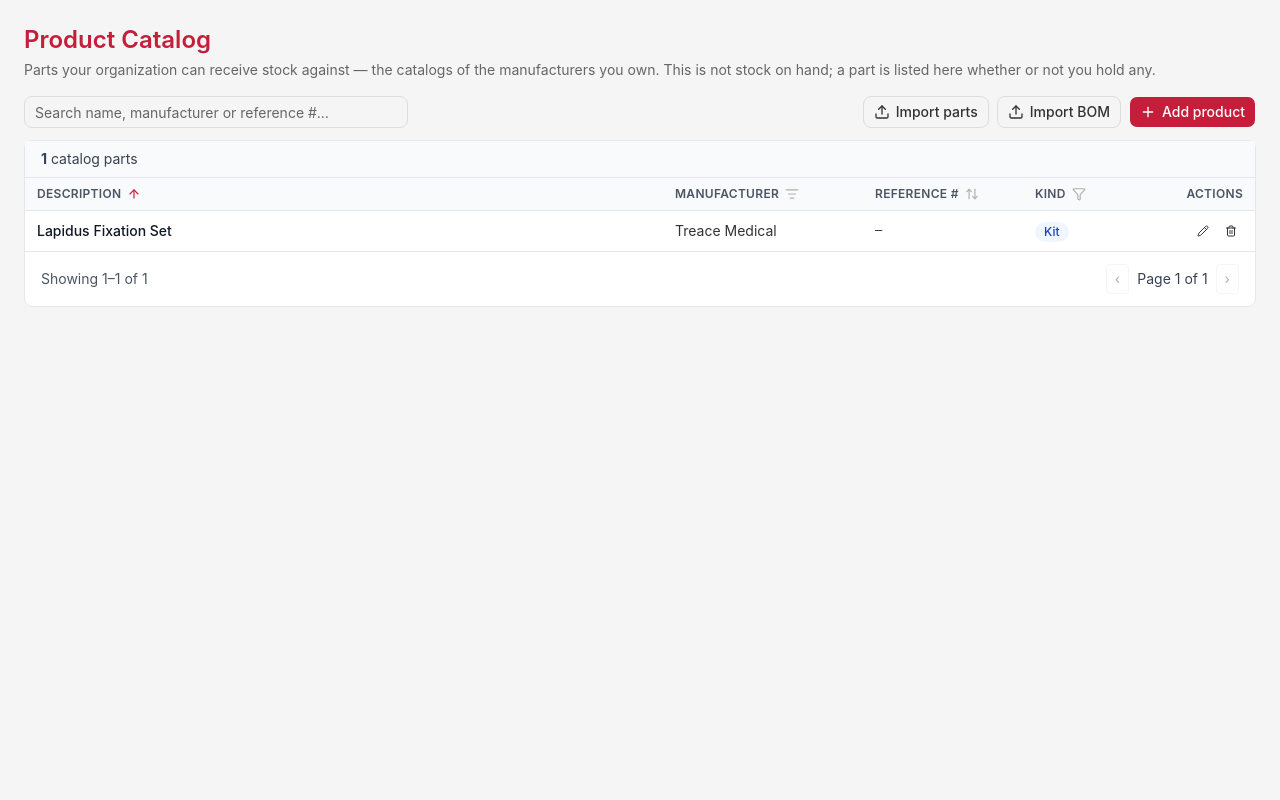
Test: importing a catalog › opens the parts dialog, which says manufacturers must already exist
This screenshot has width=1280, height=800.
Expected: the link "Lapidus Fixation Set" is shown, [37, 222, 172, 239]
Click the button "Import parts": (926, 112) [863, 96, 989, 128]
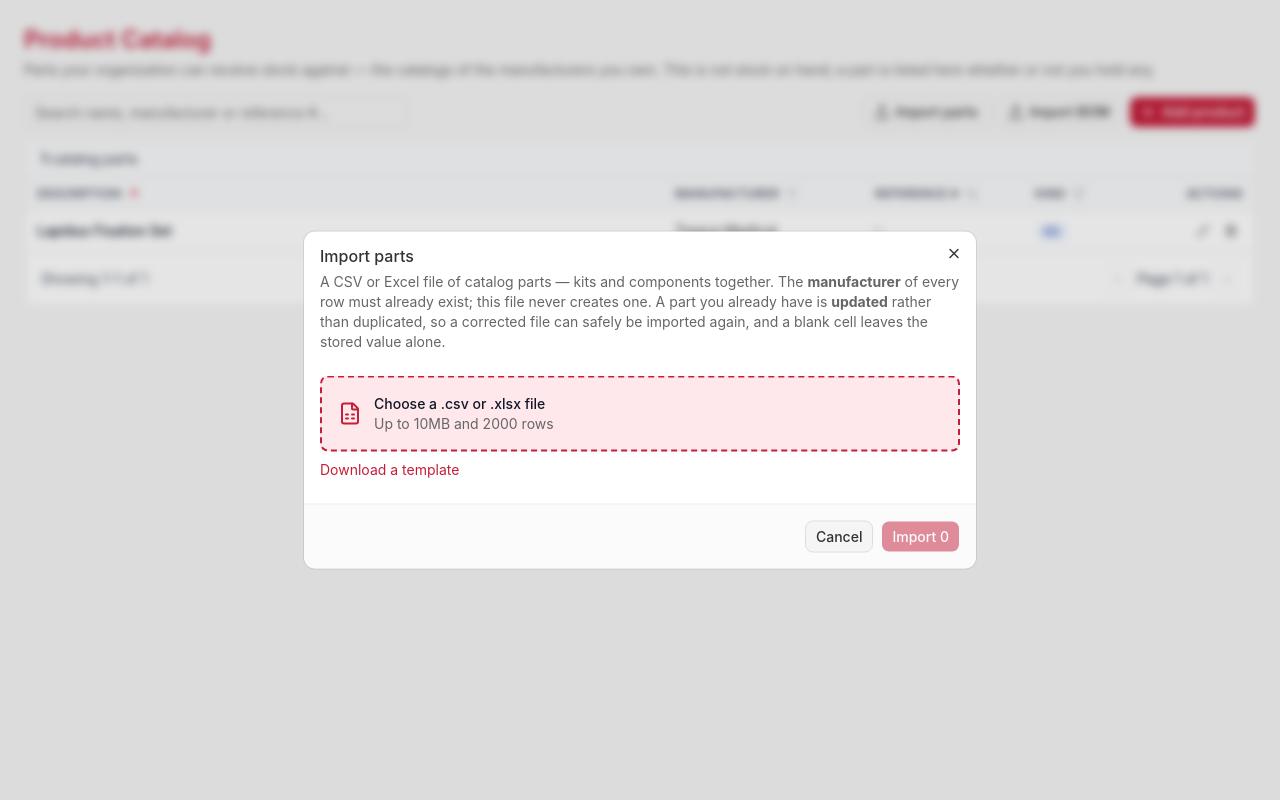
Expected: the heading "Import parts" is shown, [320, 246, 414, 266]
Expected: the text "must already exist" is shown, [320, 272, 959, 310]
